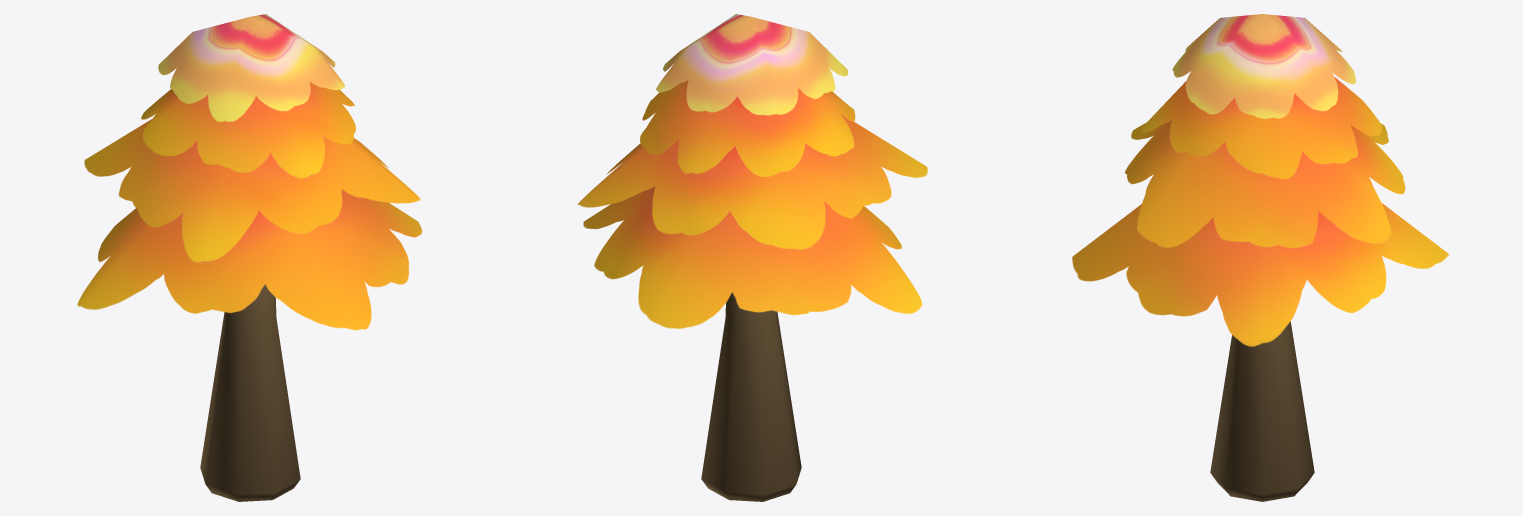
The model's file is Tree1Radiant.glb.
3 renders of one model, left to right at view 1: azimuth 30°, elevation 25°; view 2: azimuth 150°, elevation 25°; view 3: azimuth 270°, elevation 25°, orthographic.
Visible parts, largest first — view 1: Plane.008; view 2: Plane.008; view 3: Plane.008.
Part boxes in pixels (x1,y1,x2,y2): Plane.008: (77,14,422,501); Plane.008: (577,14,927,501); Plane.008: (1072,14,1449,501).
Bounding box in the file's own units: 5.29 × 5.55 × 5.29.
Materials: 3 (3 with a texture image).
